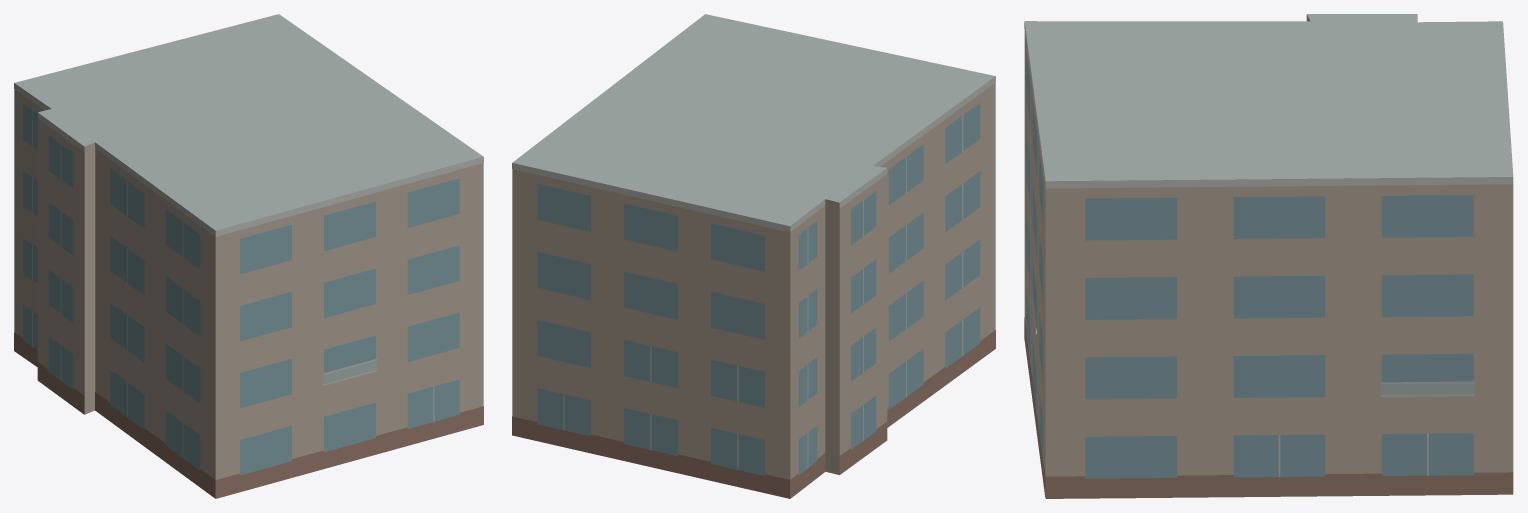
Rendered from survey-upis-32562998.glb.
3 renders of one model, left to right at view 1: azimuth 30°, elevation 25°; view 2: azimuth 150°, elevation 25°; view 3: azimuth 270°, elevation 25°, orthographic. The views are drawn at different scales.
Visible parts, largest first — view 1: survey-upis-32562998.tmp; view 2: survey-upis-32562998.tmp; view 3: survey-upis-32562998.tmp.
Boxes of the visible parts, x1=… form: survey-upis-32562998.tmp: x1=14, y1=14, x2=483, y2=498; survey-upis-32562998.tmp: x1=512, y1=14, x2=995, y2=498; survey-upis-32562998.tmp: x1=1024, y1=14, x2=1513, y2=498.
Bounding box in the file's own units: 11.98 × 10.6 × 14.79.
